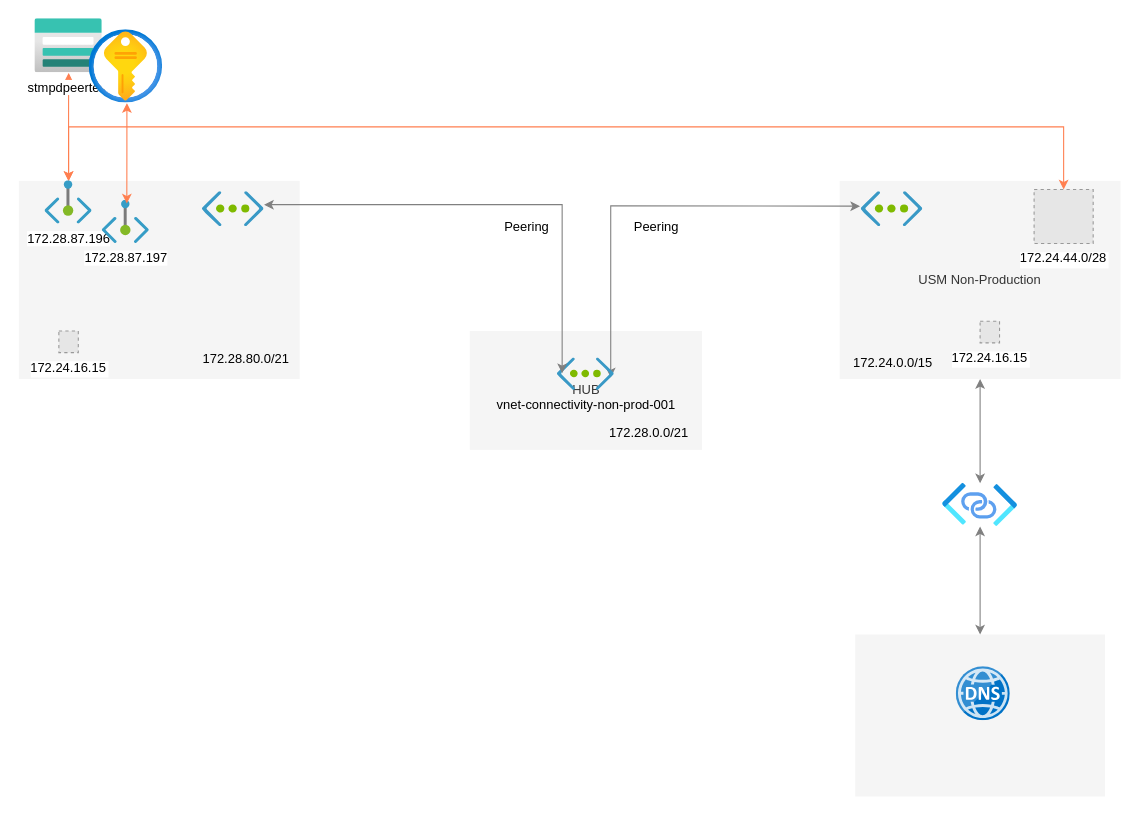
The diagram is 1138 pixels wide and 814 high, and some of its shapes have lost their labels. Grey dashed boxes stand in for pictures. Each missing label, with the box of its shape:
Data Management Non Production: (18, 180, 299, 379)
privatelink.blob.core.windows.net: (956, 666, 1010, 720)
vnet-mdp-npd-mel-01: (202, 191, 264, 226)
vnet-npd-mel-01: (861, 191, 922, 226)
